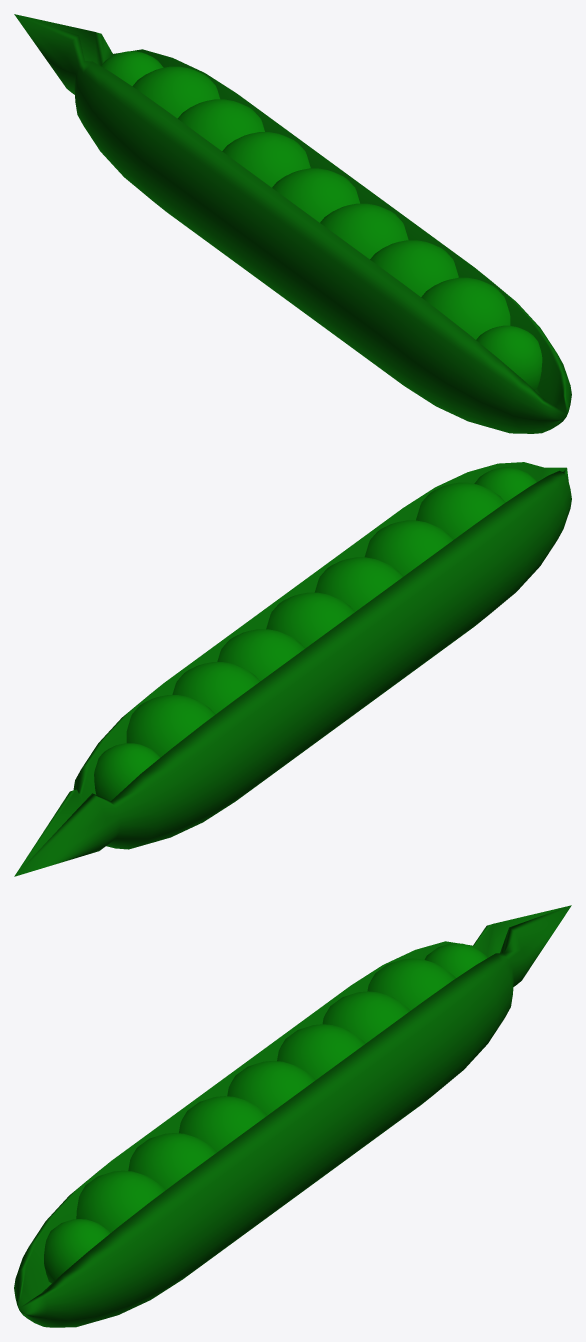
Rendered from PeaSword.fbx.
3 renders of one model, top to bottom at view 1: azimuth 30°, elevation 25°; view 2: azimuth 150°, elevation 25°; view 3: azimuth 330°, elevation 25°, orthographic.
Parts seen in each view (by area): view 1: pSphere10; view 2: pSphere10; view 3: pSphere10.
Boxes of the visible parts, x1,y1,x2,y2 form: pSphere10: (14,14,571,433); pSphere10: (14,462,571,876); pSphere10: (14,905,571,1327).
Bounding box in the file's own units: 2 × 1.98 × 15.95.
